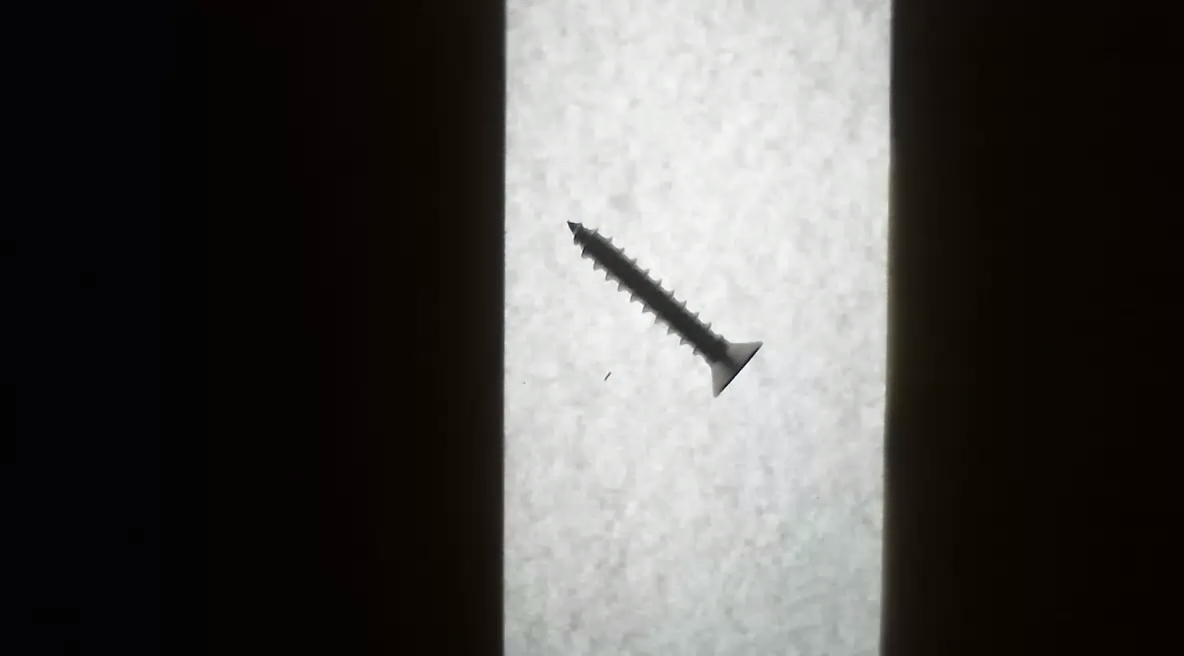S001: (549, 202, 778, 412)
